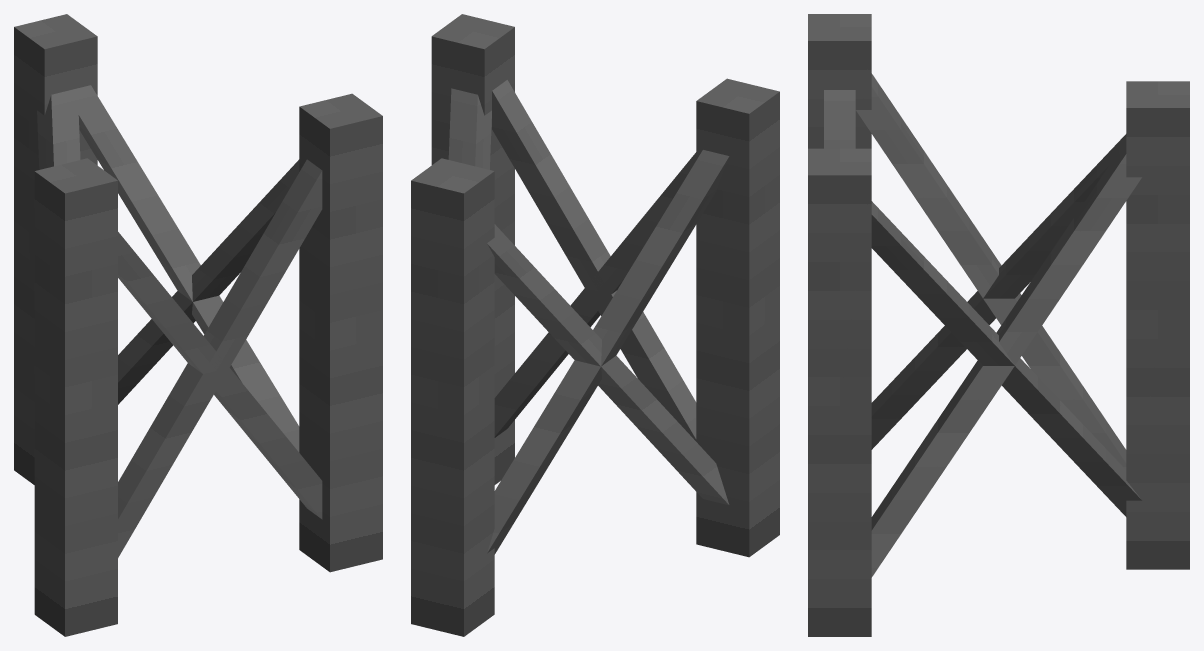
The model's file is steel_tripole.obj.
3 views of the same model, side by side, from view 1: azimuth 30°, elevation 25°; view 2: azimuth 150°, elevation 25°; view 3: azimuth 270°, elevation 25° (orthographic). The views are drawn at different scales.
Visible parts, largest first — view 1: pole_3, pole_2, beam_5, pole_1, beam_4, beam_6, beam_3, beam_1; view 2: pole_1, pole_3, beam_2, beam_5, pole_2, beam_1, beam_6, beam_3; view 3: pole_2, pole_1, beam_4, beam_2, beam_3, beam_1, pole_3, beam_6.
Part boxes in pixels (box(x1,y1,x2,y2)): pole_3: box(34, 158, 117, 636); pole_2: box(299, 93, 382, 572); beam_5: box(118, 159, 322, 557); pole_1: box(14, 14, 97, 484); beam_4: box(66, 85, 299, 452); beam_6: box(118, 232, 322, 519); beam_3: box(118, 159, 299, 404); beam_1: box(37, 88, 80, 169); pole_1: box(411, 158, 494, 636); pole_3: box(696, 78, 779, 557); beam_2: box(487, 150, 729, 554); beam_5: box(492, 80, 696, 441); pole_2: box(431, 14, 514, 484); beam_1: box(487, 224, 729, 505); beam_6: box(494, 152, 696, 437); beam_3: box(448, 88, 491, 169); pole_2: box(808, 148, 871, 636); pole_1: box(1126, 81, 1189, 569); beam_4: box(871, 143, 1141, 577); beam_2: box(856, 73, 1126, 469); beam_3: box(871, 201, 1141, 516); beam_1: box(871, 134, 1126, 449); pole_3: box(808, 14, 871, 148); beam_6: box(824, 90, 855, 148).
Size of the model in its own units: 0.75 by 1 by 0.75.
